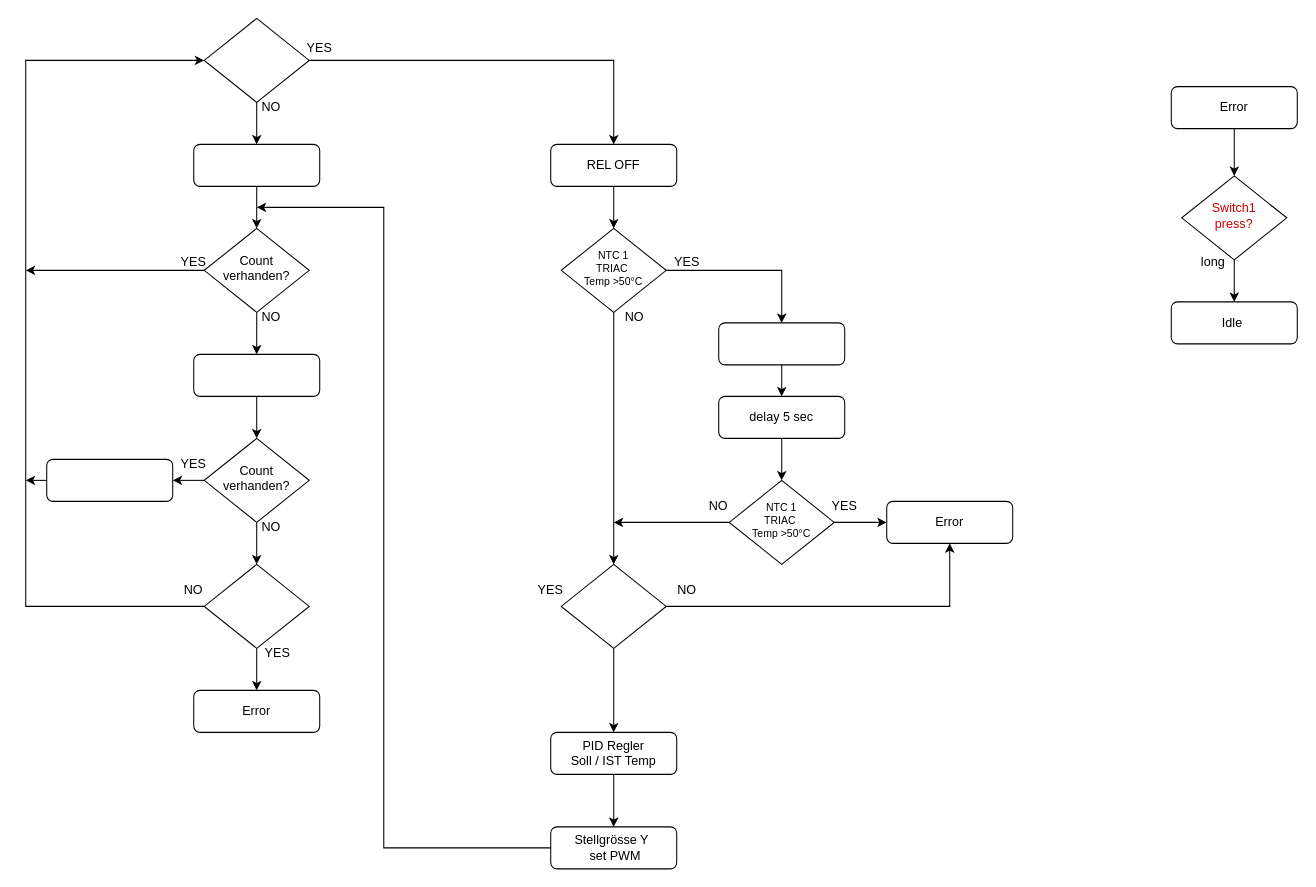
This 1316x887 diagram has some shape labels left out. Here are the shapes that lost their labels. From the top down, the box of each, then its label:
(203, 17, 309, 102): Soll Temp -5°C erricht?
(193, 143, 320, 186): REL ON
(718, 322, 845, 365): PWM OFF
(193, 353, 320, 396): Timeout 5 sec
(46, 458, 173, 501): Timeout reset
(203, 563, 309, 648): Timeout abgelaufen?
(560, 563, 666, 648): NTC 2 Gehäuse Temp <50°C
